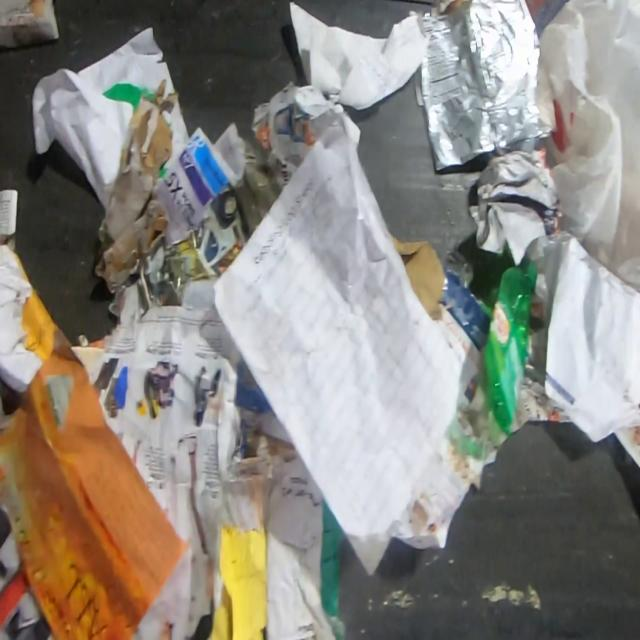cardboard: (99, 81, 180, 294), (391, 236, 446, 314)
rigid_plastic: (482, 259, 539, 435), (431, 247, 493, 375)
soft_plastic: (510, 0, 640, 323), (412, 0, 558, 172)
